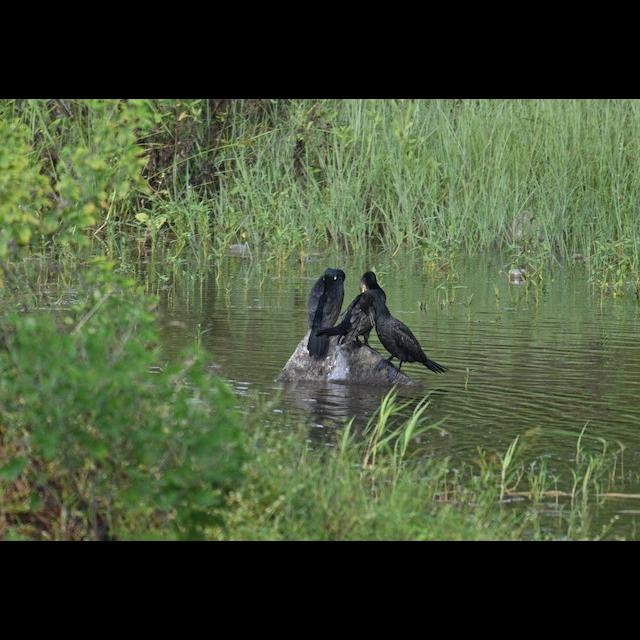cormorant: (356, 291, 446, 373), (304, 266, 346, 360)
